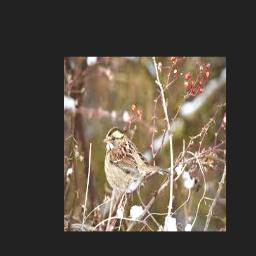Sparrow: (101, 127, 170, 203)
